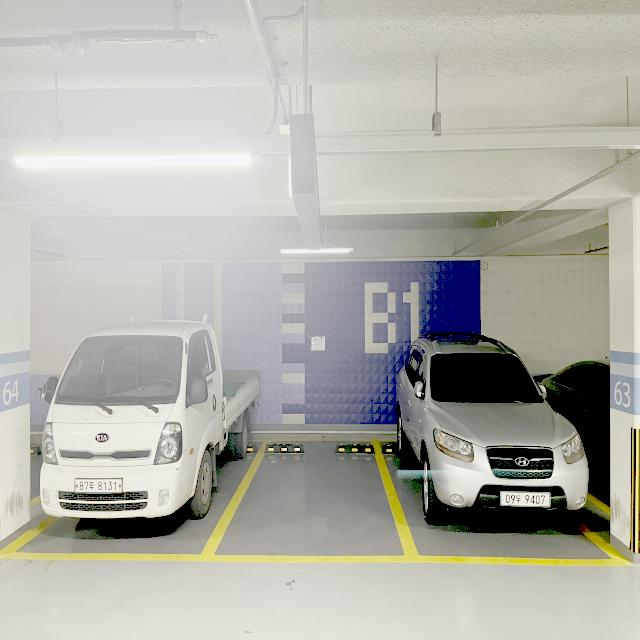empty: (197, 434, 414, 562)
occupied: (406, 322, 604, 550), (28, 325, 215, 563)
